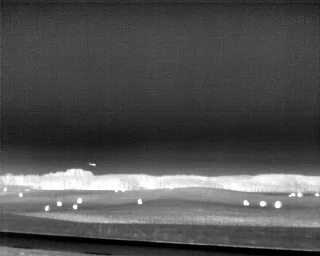AIRPLANE: (87, 160, 97, 169)
